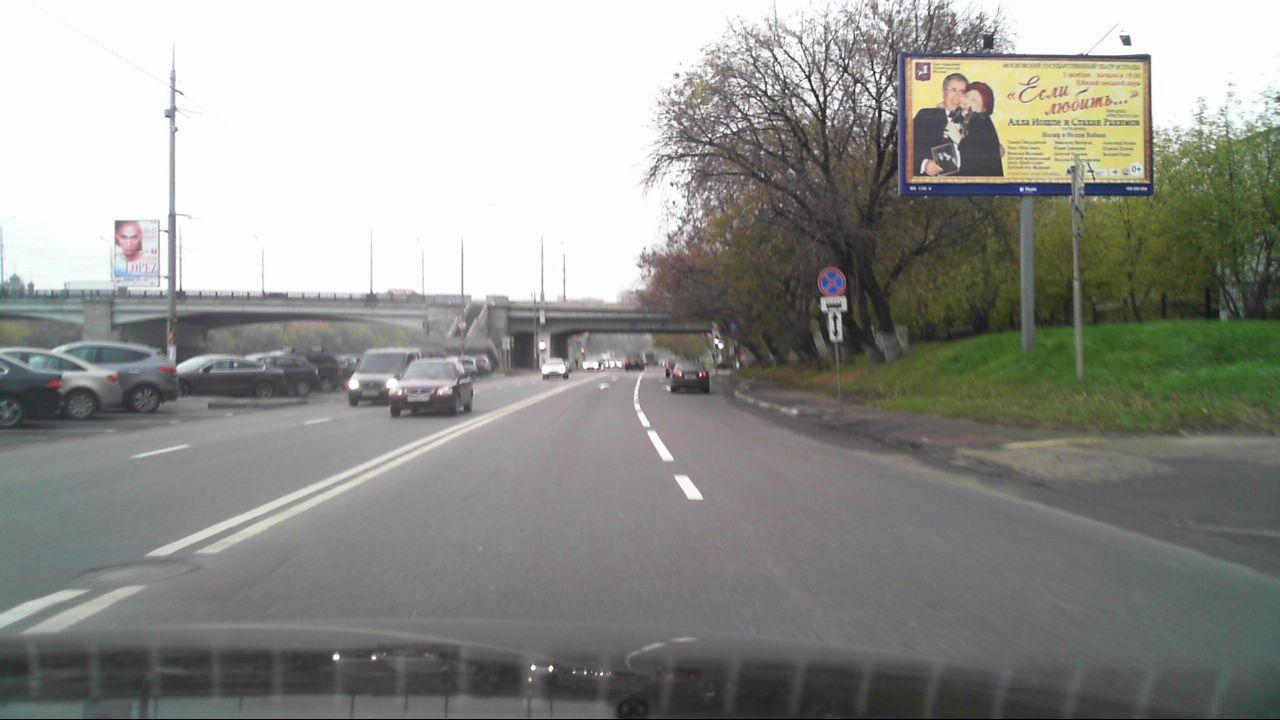3_27: (816, 266, 847, 295)
8_2_4: (828, 313, 846, 342)
8_4_4: (818, 296, 847, 312)
